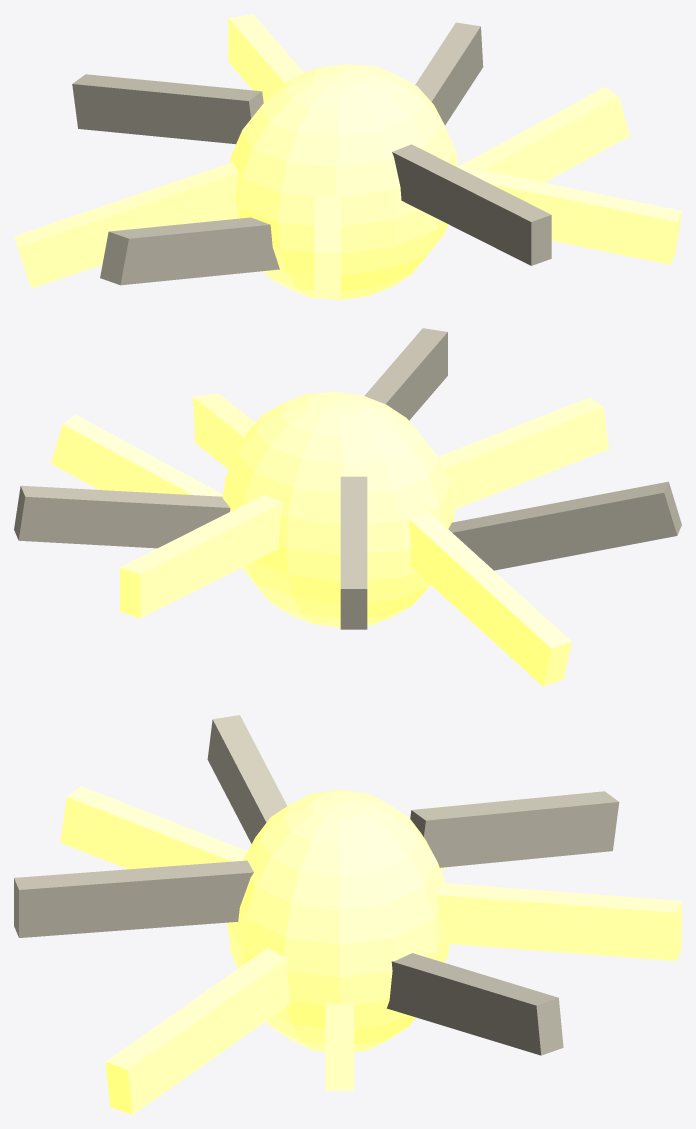
Rendered from marrow_flash.glb.
The picture shows the model from 3 angles, top to bottom: view 1: azimuth 30°, elevation 25°; view 2: azimuth 150°, elevation 25°; view 3: azimuth 270°, elevation 25°; orthographic projection. The views are drawn at different scales.
Parts seen in each view (by area): view 1: marrow flash core, marrow flash splinter 4, marrow flash splinter 3, marrow flash splinter 7, marrow flash splinter 5, marrow flash splinter 8, marrow flash splinter 0, marrow flash splinter 1, marrow flash splinter 2, marrow flash splinter 6; view 2: marrow flash core, marrow flash splinter 5, marrow flash splinter 4, marrow flash splinter 1, marrow flash splinter 2, marrow flash splinter 6, marrow flash splinter 0, marrow flash splinter 3, marrow flash splinter 7, marrow flash splinter 8; view 3: marrow flash core, marrow flash splinter 2, marrow flash splinter 7, marrow flash splinter 8, marrow flash splinter 3, marrow flash splinter 1, marrow flash splinter 6, marrow flash splinter 5, marrow flash splinter 0.
Boxes of the visible parts, bbox=[...] form: marrow flash core: bbox=[230, 64, 458, 299]; marrow flash splinter 4: bbox=[14, 162, 238, 288]; marrow flash splinter 3: bbox=[72, 74, 263, 144]; marrow flash splinter 7: bbox=[392, 144, 551, 265]; marrow flash splinter 5: bbox=[100, 217, 279, 285]; marrow flash splinter 8: bbox=[458, 165, 681, 264]; marrow flash splinter 0: bbox=[461, 87, 630, 182]; marrow flash splinter 1: bbox=[415, 22, 483, 125]; marrow flash splinter 2: bbox=[228, 14, 303, 102]; marrow flash splinter 6: bbox=[314, 196, 340, 298]; marrow flash core: bbox=[222, 392, 454, 627]; marrow flash splinter 5: bbox=[448, 481, 681, 570]; marrow flash splinter 4: bbox=[409, 511, 571, 686]; marrow flash splinter 1: bbox=[14, 485, 230, 548]; marrow flash splinter 2: bbox=[120, 495, 283, 618]; marrow flash splinter 6: bbox=[438, 397, 609, 509]; marrow flash splinter 0: bbox=[51, 414, 222, 496]; marrow flash splinter 3: bbox=[340, 476, 367, 629]; marrow flash splinter 7: bbox=[364, 328, 447, 420]; marrow flash splinter 8: bbox=[193, 393, 255, 469]; marrow flash core: bbox=[227, 789, 449, 1051]; marrow flash splinter 2: bbox=[435, 883, 681, 960]; marrow flash splinter 7: bbox=[14, 860, 253, 937]; marrow flash splinter 8: bbox=[105, 948, 290, 1114]; marrow flash splinter 3: bbox=[410, 791, 619, 867]; marrow flash splinter 1: bbox=[386, 953, 563, 1055]; marrow flash splinter 6: bbox=[60, 786, 247, 869]; marrow flash splinter 5: bbox=[207, 715, 286, 843]; marrow flash splinter 0: bbox=[325, 1003, 354, 1090].
Bounding box in the file's own units: 0.5447 × 0.2 × 0.5036.
